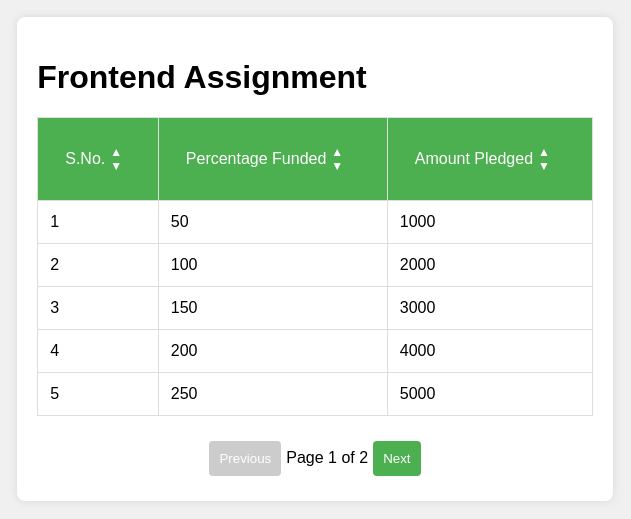
Test: handles sorting
expect the text "1000" is shown: met, box 387,200 -> 592,243
Step 1. Click the button "Amount Pledged ▲ ▼" → (482, 159), box 405,135 -> 560,183
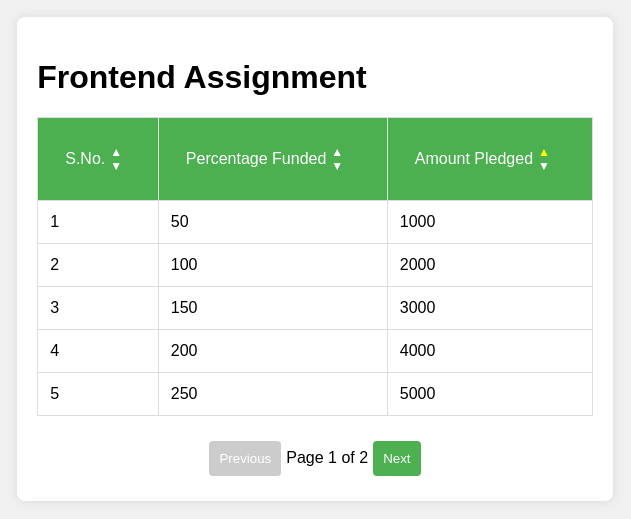
expect the text "1000" is shown: met, box 387,200 -> 592,243
Step 2. Click the button "Amount Pledged ▲ ▼" → (482, 159), box 405,135 -> 560,183
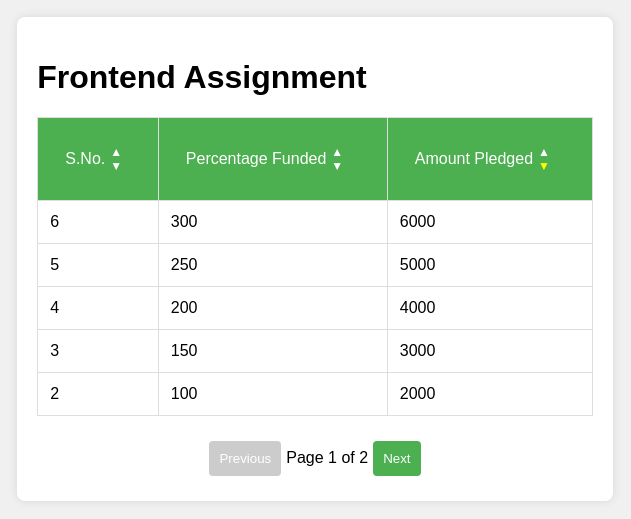
expect the text "6000" is shown: met, box 387,200 -> 592,243
